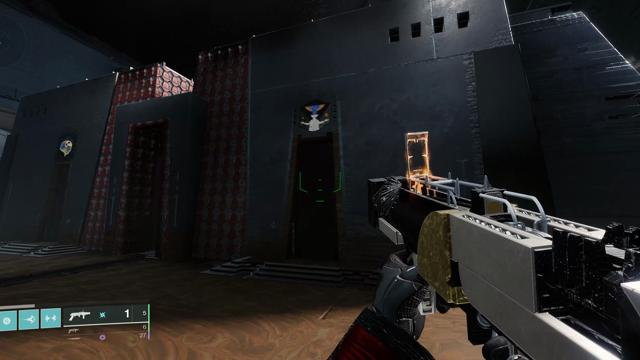brain: (57, 137, 75, 157)
drink: (298, 100, 332, 133)
